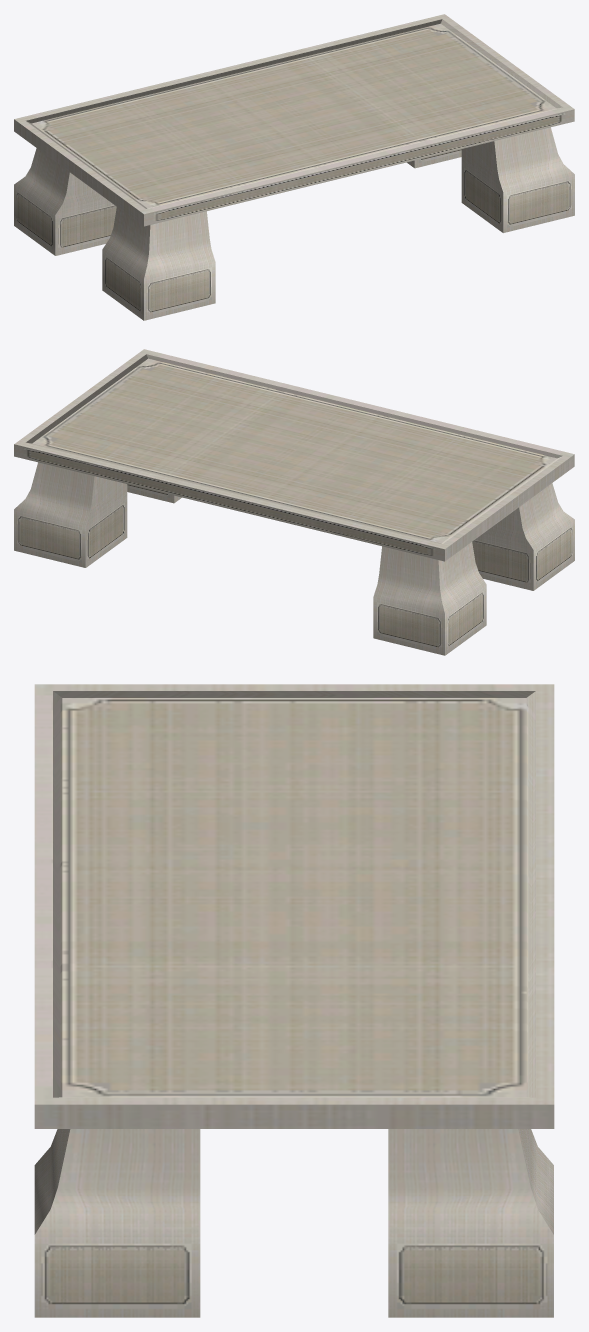
The model's file is frn_all_eleg_coffee_table_s01_l0.fbx.
3 renders of one model, top to bottom at view 1: azimuth 30°, elevation 25°; view 2: azimuth 150°, elevation 25°; view 3: azimuth 270°, elevation 25°, orthographic. The views are drawn at different scales.
Parts seen in each view (by area): view 1: mesh_node; view 2: mesh_node; view 3: mesh_node.
Boxes of the visible parts, bbox=[...] form: mesh_node: bbox=[14, 14, 574, 320]; mesh_node: bbox=[14, 349, 574, 655]; mesh_node: bbox=[34, 684, 554, 1317].
Size of the model in its own units: 1.69 by 0.3985 by 0.8813.
Materials: 1 (1 with a texture image).
